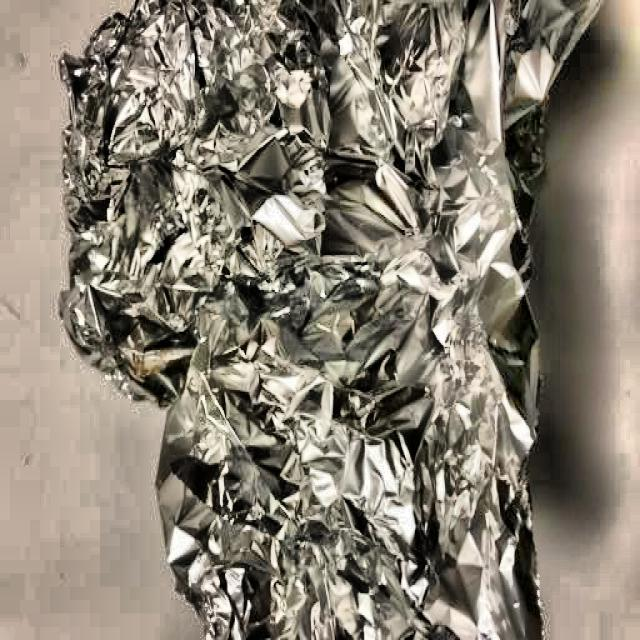metal: (53, 0, 581, 640)
